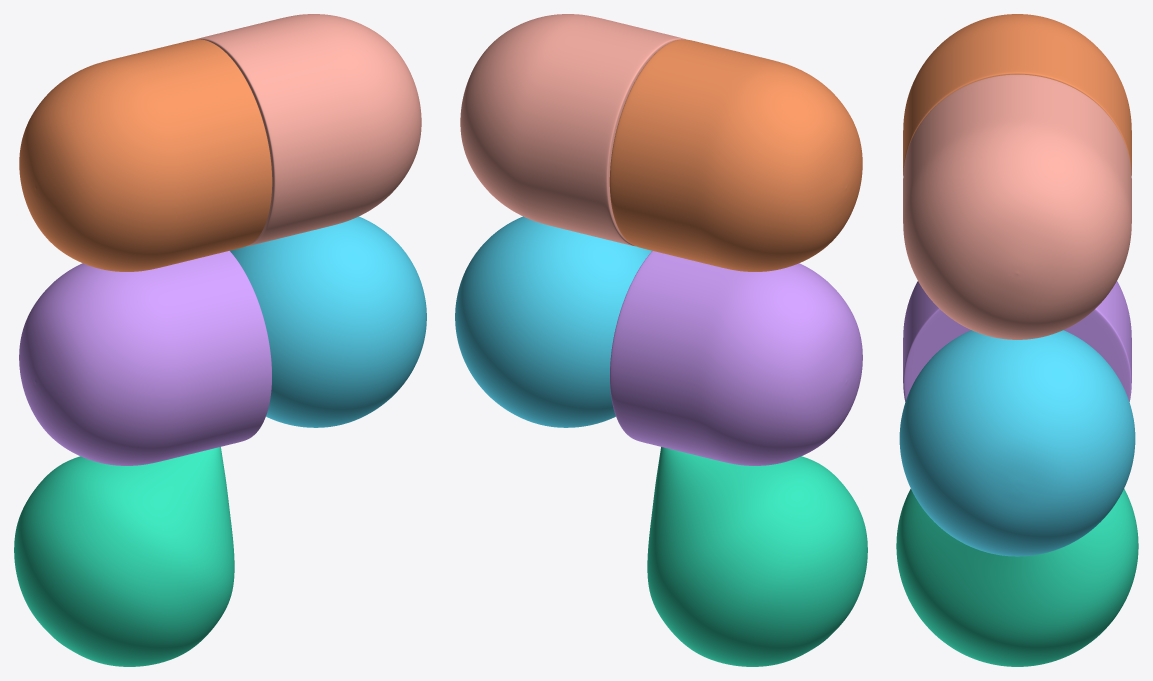
Rendered from figma-transformed.glb.
3 renders of one model, left to right at view 1: azimuth 30°, elevation 25°; view 2: azimuth 150°, elevation 25°; view 3: azimuth 270°, elevation 25°, orthographic. The views are drawn at different scales.
Visible parts, largest first — view 1: Cylinder.006; view 2: Cylinder.006; view 3: Cylinder.006.
Boxes of the visible parts, x1,y1,x2,y2 form: Cylinder.006: [14, 14, 426, 666]; Cylinder.006: [455, 14, 867, 666]; Cylinder.006: [896, 14, 1138, 666].
Bounding box in the file's own units: 1.3 × 1.91 × 0.6666.
